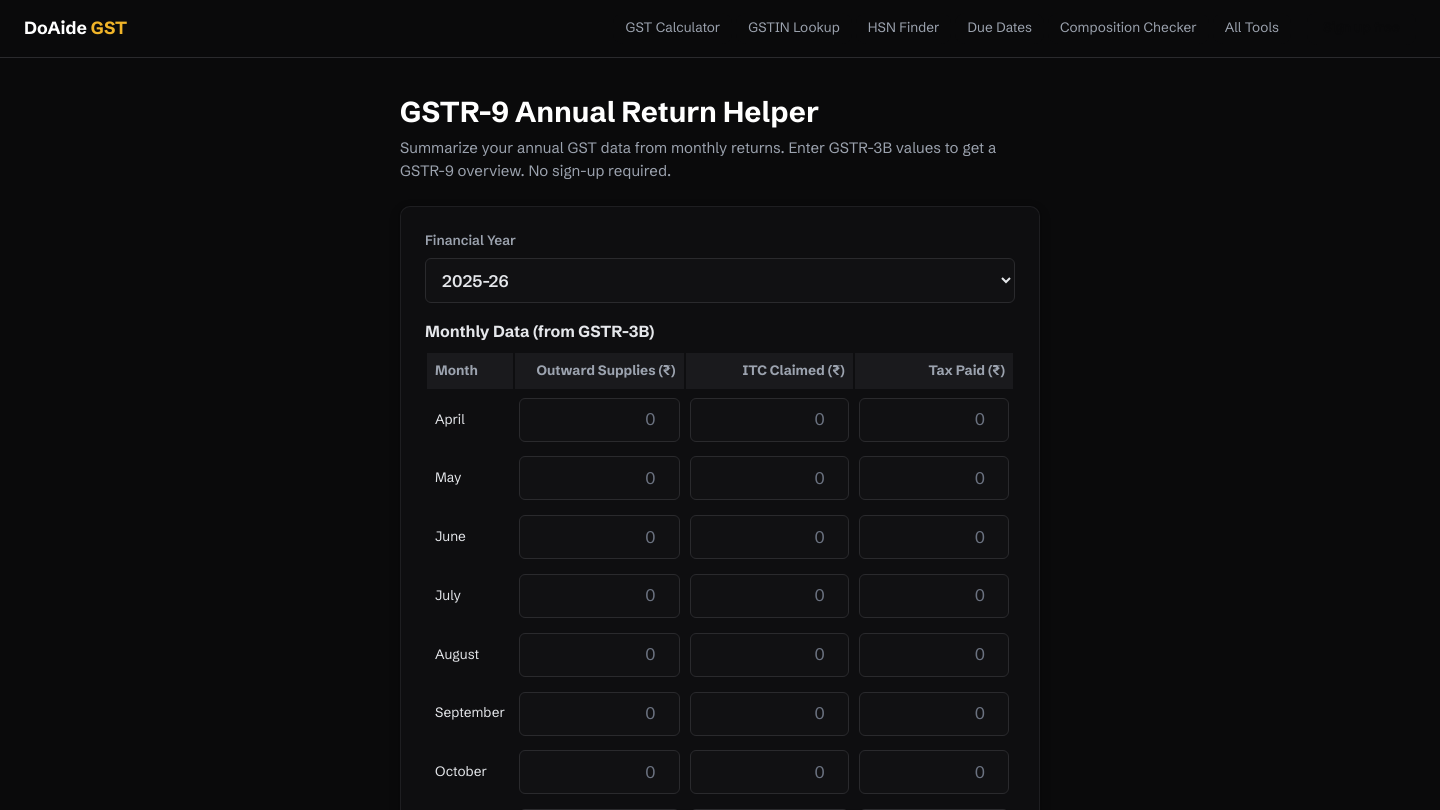
it: Gstr9HelperPage › shows GSTR-9C note when turnover exceeds 5 crore
Type "60000000" into the 1st number field with placeholder "0". click: (599, 420)
box: x1=519 y1=398 x2=680 y2=442
(page scrolled)
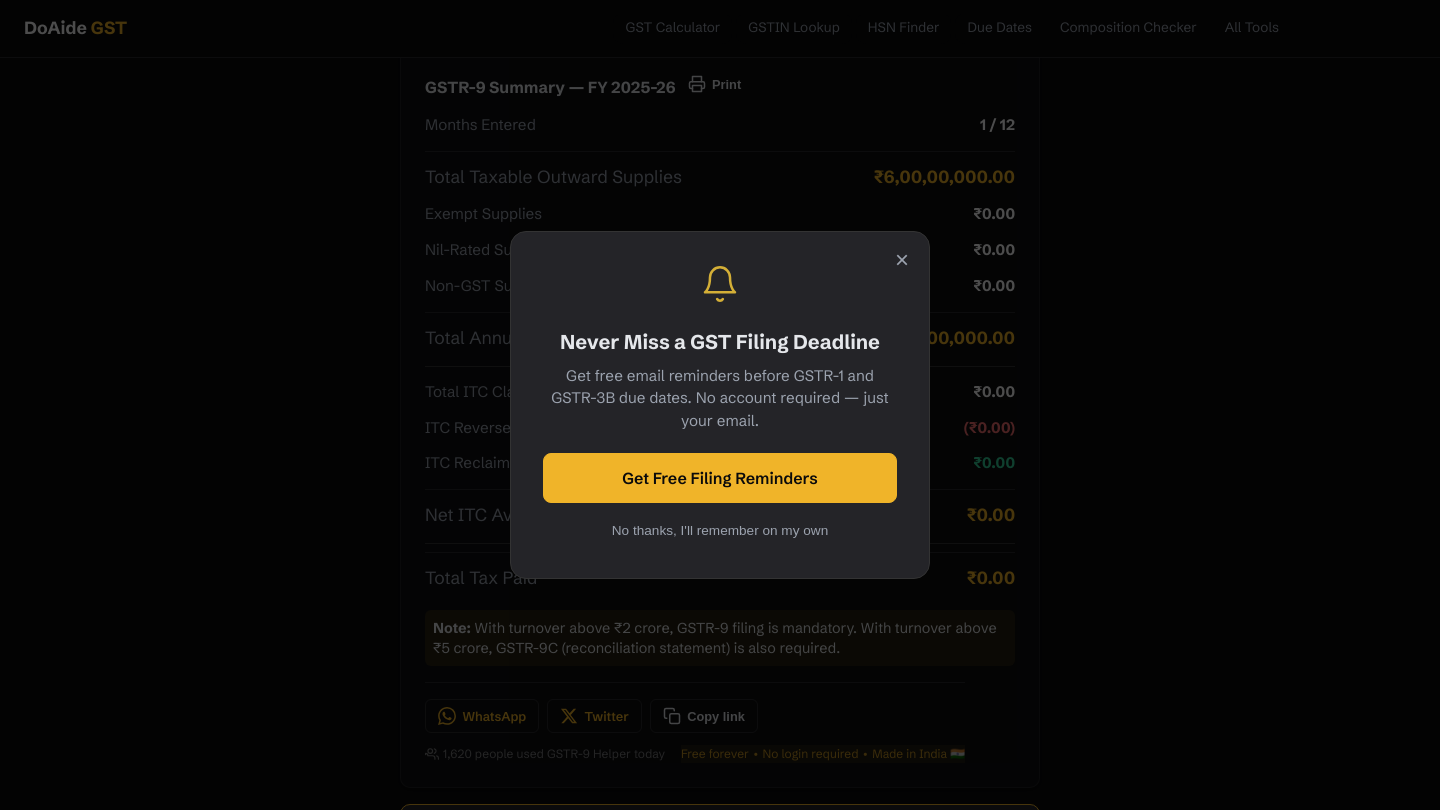
Check: the element with class "calc-result" shows "GSTR-9C", box x1=433 y1=619 x2=997 y2=657
Check: the element with class "calc-result" shows "reconciliation statement", box x1=433 y1=619 x2=997 y2=657
